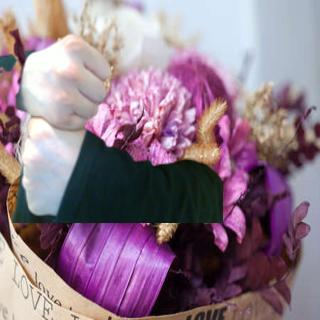CAREFUL: (8, 28, 116, 221)
